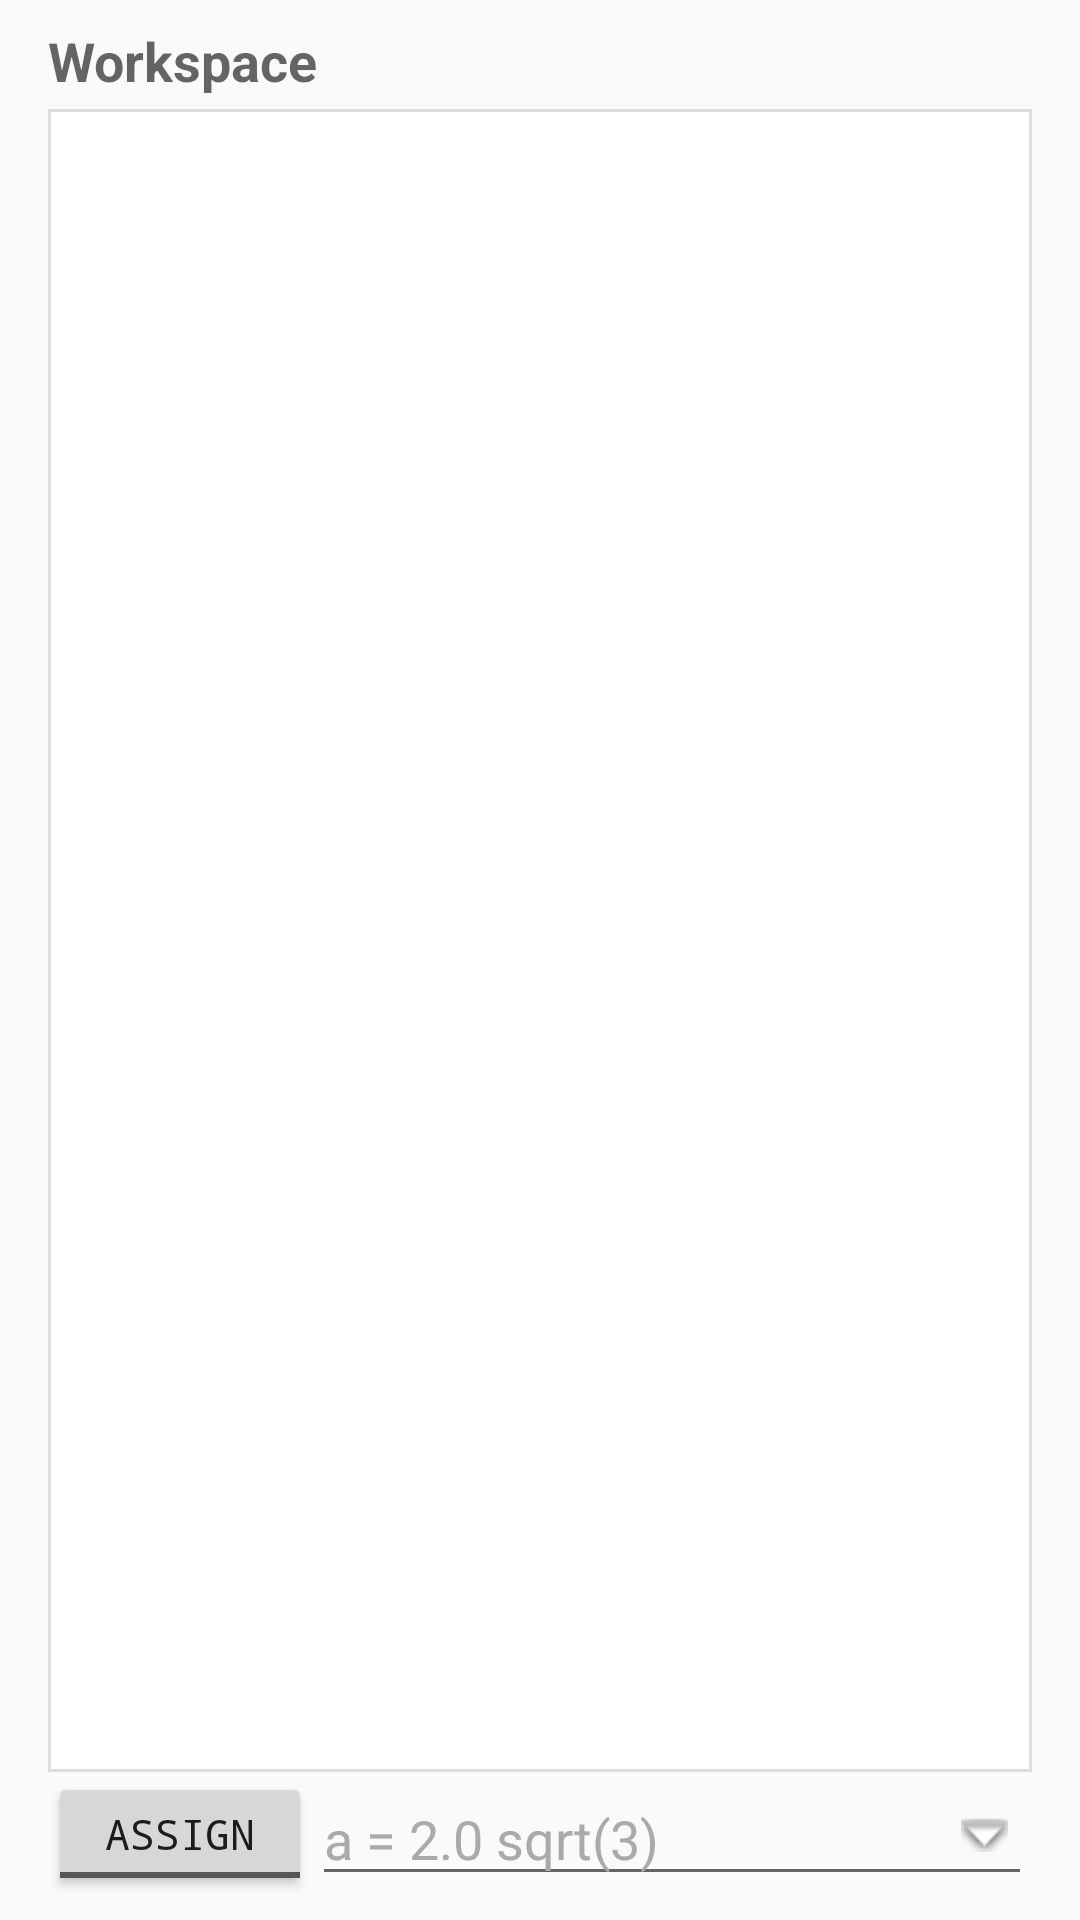

Screen size 1080 x 1920. Icon name, then its center in pixels as (x=x, y=y):
arrow down float: (x=984, y=1835)
